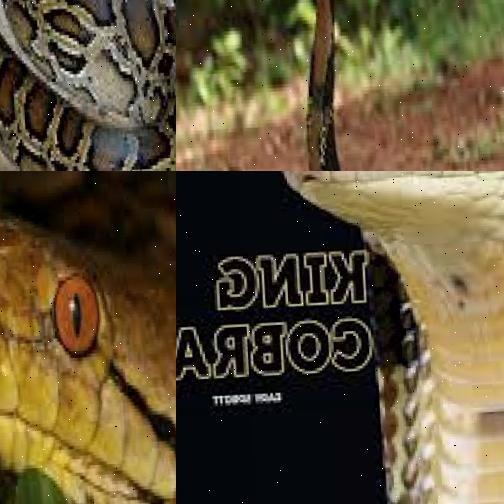3: (0, 174, 176, 504)
5: (280, 171, 504, 504), (275, 0, 504, 171)
snake: (0, 0, 176, 171)
